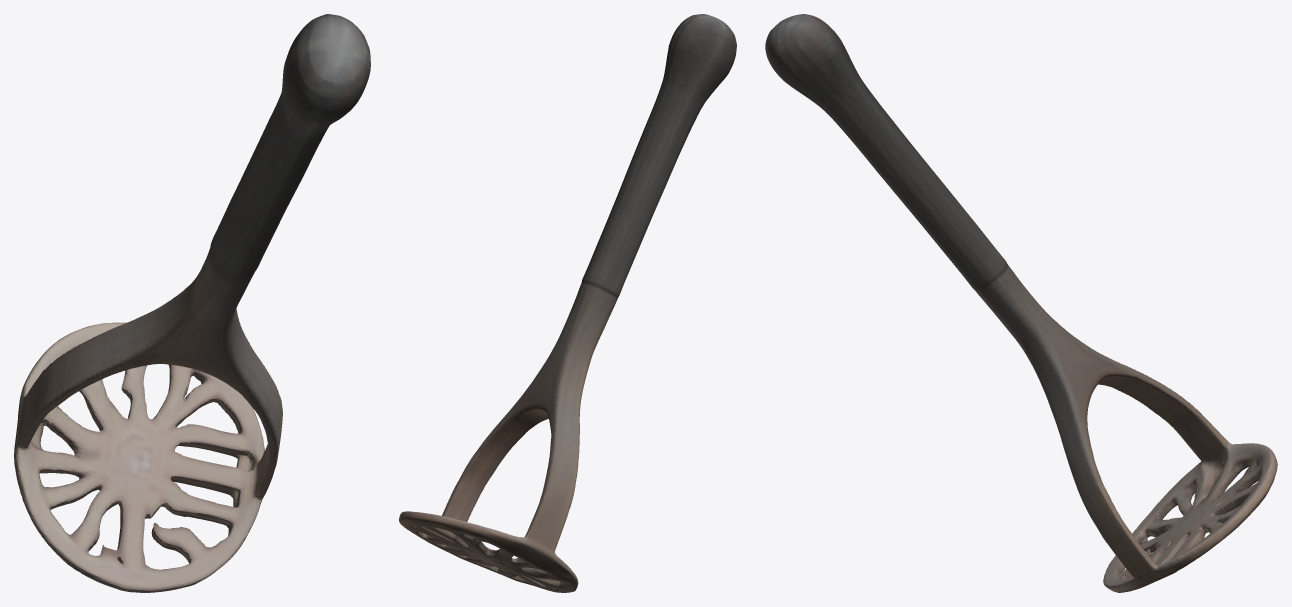
The model's file is frame_0006_source_000006_object.glb.
The picture shows the model from 3 angles, left to right: view 1: azimuth 30°, elevation 25°; view 2: azimuth 150°, elevation 25°; view 3: azimuth 270°, elevation 25°; orthographic projection. The views are drawn at different scales.
Parts seen in each view (by area): view 1: world; view 2: world; view 3: world.
Boxes of the visible parts, x1=… form: world: x1=14, y1=14, x2=370, y2=592; world: x1=399, y1=14, x2=736, y2=592; world: x1=765, y1=14, x2=1277, y2=592.
Bounding box in the file's own units: 0.0773 × 0.226 × 0.1921.
